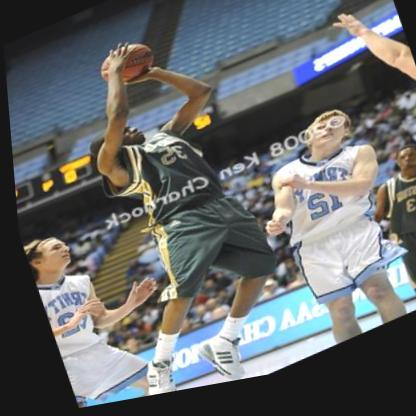basketball: (93, 40, 159, 97)
